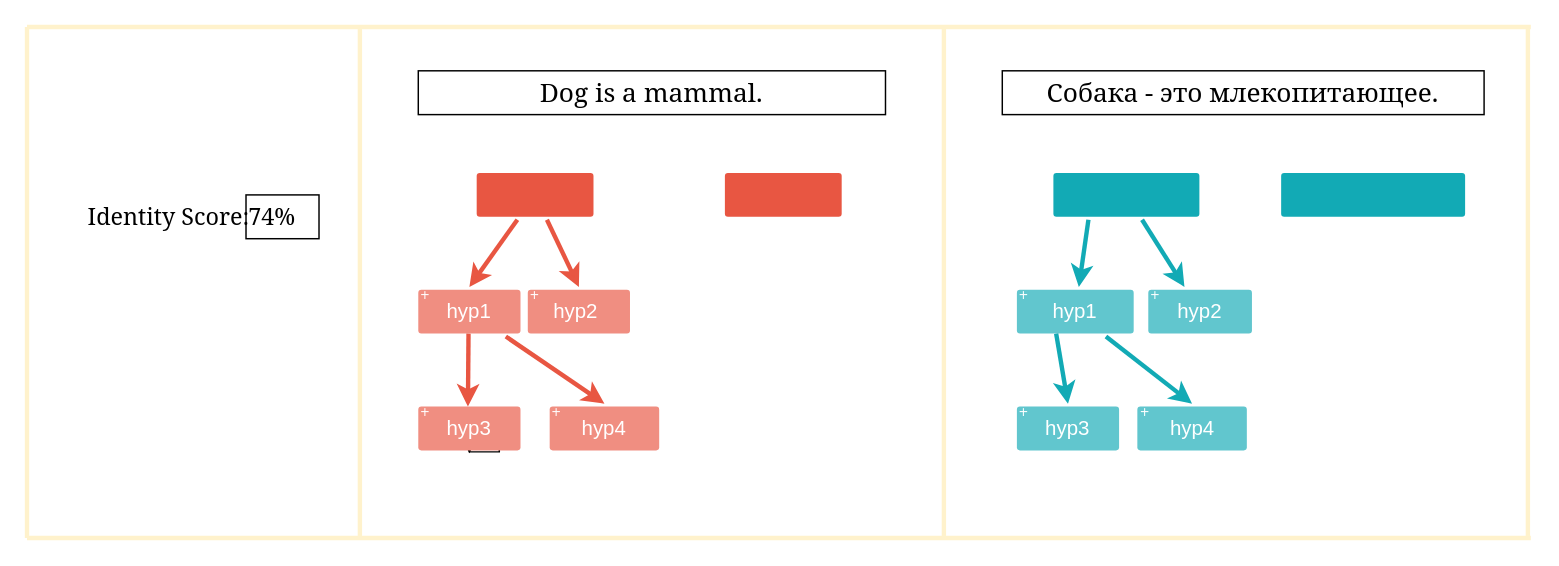
The diagram is 1559 pixels wide and 566 high, and some of its shapes have lost their labels. The centre of each missing label's shape, as x and y in pixels:
"cобака" goes at pixel 1126 194.
"dog" goes at pixel 534 194.
"mammal" goes at pixel 782 194.
"млекопитающее" goes at pixel 1372 194.
